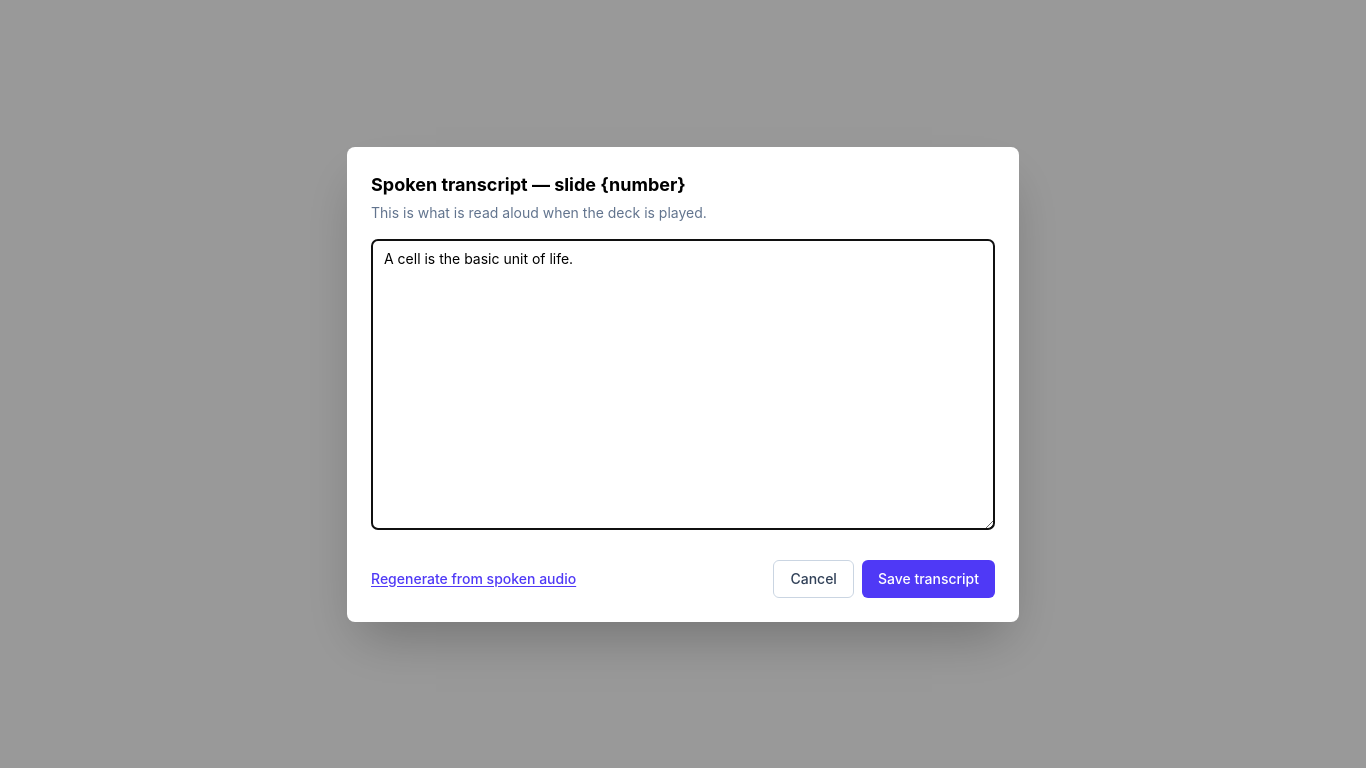
TranscriptEditorModal › re-transcribes the recorded audio into the field
The image size is (1366, 768).
Click the button "Regenerate from spoken audio" at [474, 578], box x1=371 y1=568 x2=576 y2=588
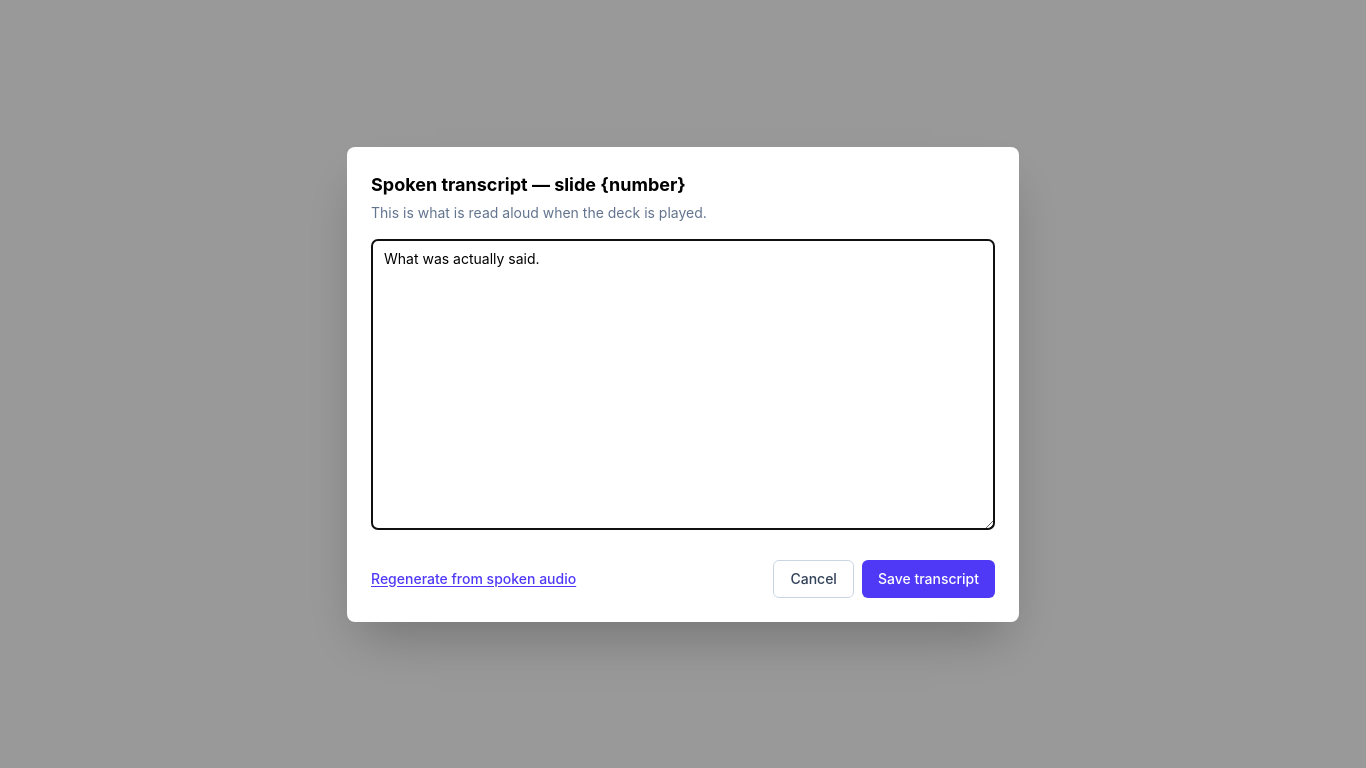
Result: the text box named "Spoken transcript" holds "What was actually said." at x1=371 y1=238 x2=995 y2=530
